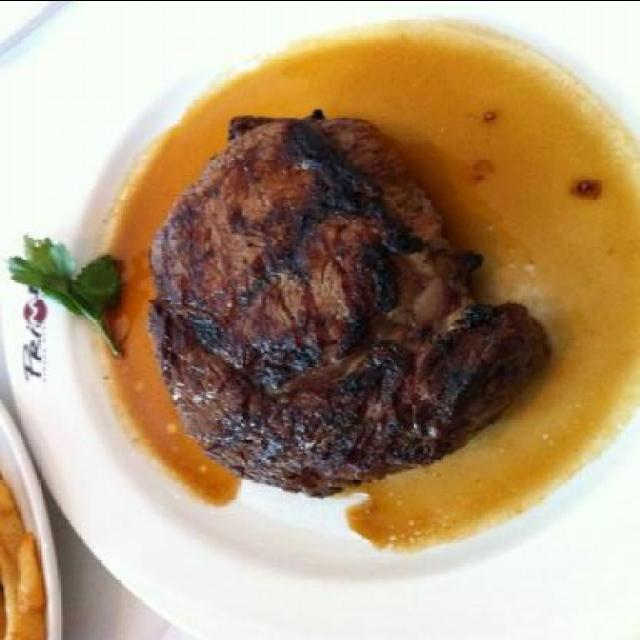Steak: (152, 62, 534, 513)
